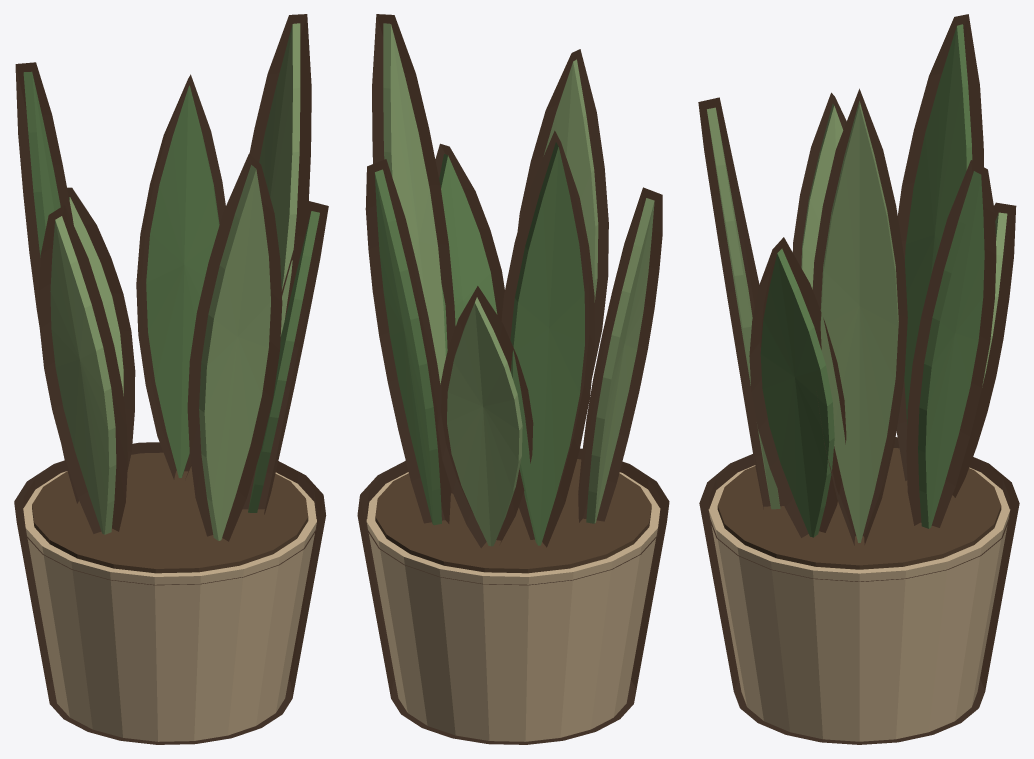
Rendered from snake-plant.glb.
The picture shows the model from 3 angles, left to right: view 1: azimuth 30°, elevation 25°; view 2: azimuth 150°, elevation 25°; view 3: azimuth 270°, elevation 25°; orthographic projection. The views are drawn at different scales.
Parts seen in each view (by area): view 1: snake-plant, snake-plant-outline; view 2: snake-plant, snake-plant-outline; view 3: snake-plant, snake-plant-outline.
Part boxes in pixels (left/top/right/bottom): snake-plant: left=23, top=23, right=319, bottom=741; snake-plant-outline: left=14, top=14, right=328, bottom=744; snake-plant: left=366, top=23, right=660, bottom=741; snake-plant-outline: left=357, top=14, right=669, bottom=744; snake-plant: left=707, top=24, right=1010, bottom=741; snake-plant-outline: left=698, top=14, right=1019, bottom=744.
Bounding box in the file's own units: 0.4907 × 1.12 × 0.49.
